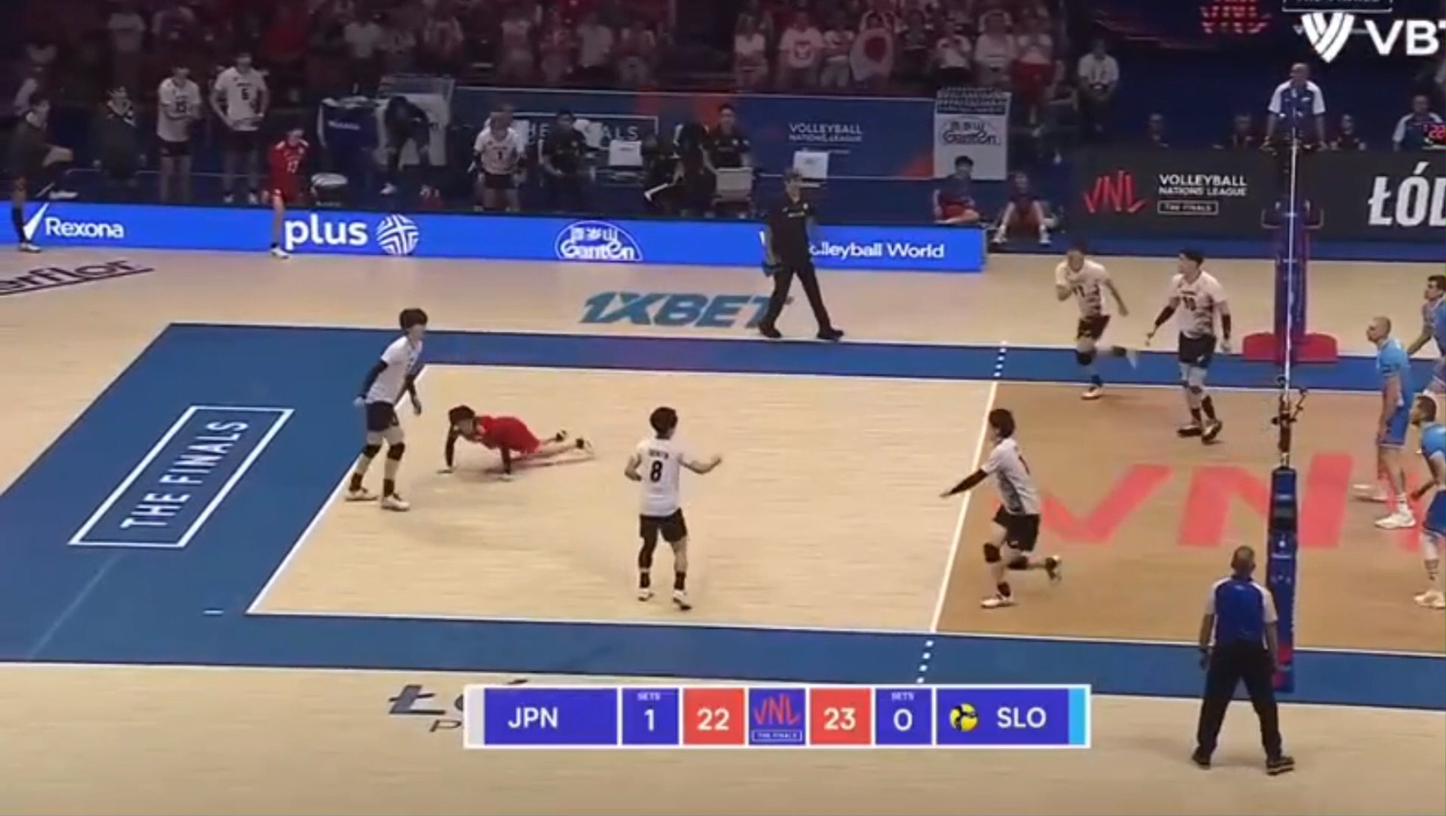player: (1367, 315, 1417, 528), (1410, 392, 1445, 610), (1407, 274, 1445, 394)
player 1: (941, 408, 1061, 608), (624, 406, 721, 610), (1145, 249, 1232, 443), (345, 308, 428, 511), (1055, 246, 1137, 400), (443, 405, 592, 475)
referee: (1191, 546, 1293, 774), (759, 170, 844, 341), (1262, 63, 1325, 229)
